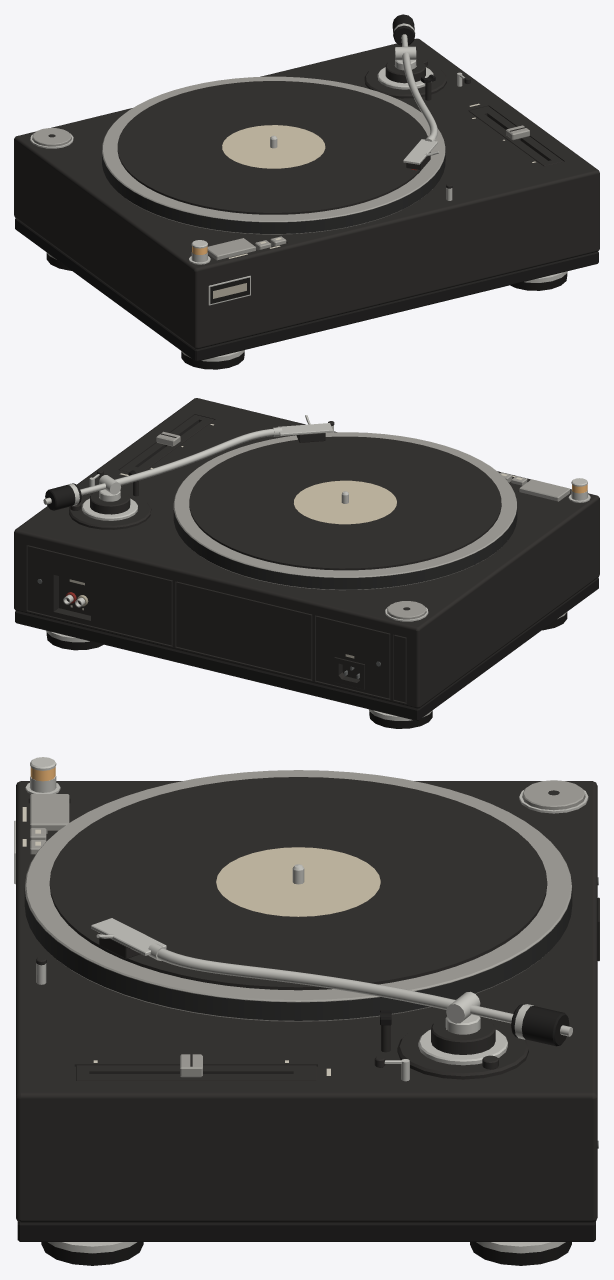
Rendered from dj-turntable-direct-2ac4d7e319c2.glb.
The picture shows the model from 3 angles, top to bottom: view 1: azimuth 30°, elevation 25°; view 2: azimuth 150°, elevation 25°; view 3: azimuth 270°, elevation 25°; orthographic projection. The views are drawn at different scales.
Visible parts, largest first — view 1: plastic-dark, brushed, rubber, grille-mesh, chrome, paper, rubber-foot, enamel-black; view 2: plastic-dark, brushed, rubber, chrome, grille-mesh, paper, rubber-foot, enamel-black; view 3: plastic-dark, brushed, chrome, rubber, grille-mesh, paper, rubber-foot, enamel-black.
Boxes of the visible parts, bbox=[...] form: plastic-dark: bbox=[14, 38, 599, 349]; brushed: bbox=[32, 76, 529, 260]; rubber: bbox=[15, 74, 598, 361]; grille-mesh: bbox=[102, 150, 445, 233]; chrome: bbox=[30, 23, 567, 361]; paper: bbox=[222, 125, 325, 168]; rubber-foot: bbox=[46, 253, 567, 369]; enamel-black: bbox=[210, 14, 414, 303]; plastic-dark: bbox=[14, 398, 599, 708]; brushed: bbox=[156, 431, 570, 619]; rubber: bbox=[15, 470, 598, 720]; chrome: bbox=[43, 415, 590, 720]; grille-mesh: bbox=[173, 508, 517, 589]; paper: bbox=[294, 480, 396, 524]; rubber-foot: bbox=[46, 612, 567, 728]; enamel-black: bbox=[45, 483, 81, 510]; plastic-dark: bbox=[16, 777, 599, 1222]; brushed: bbox=[25, 770, 585, 1077]; chrome: bbox=[14, 757, 588, 1253]; rubber: bbox=[17, 1010, 595, 1241]; grille-mesh: bbox=[24, 888, 572, 1020]; paper: bbox=[216, 847, 380, 916]; rubber-foot: bbox=[41, 1242, 571, 1265]; enamel-black: bbox=[511, 1003, 569, 1046].
Bounding box in the file's own units: 0.453 × 0.1622 × 0.3556.
